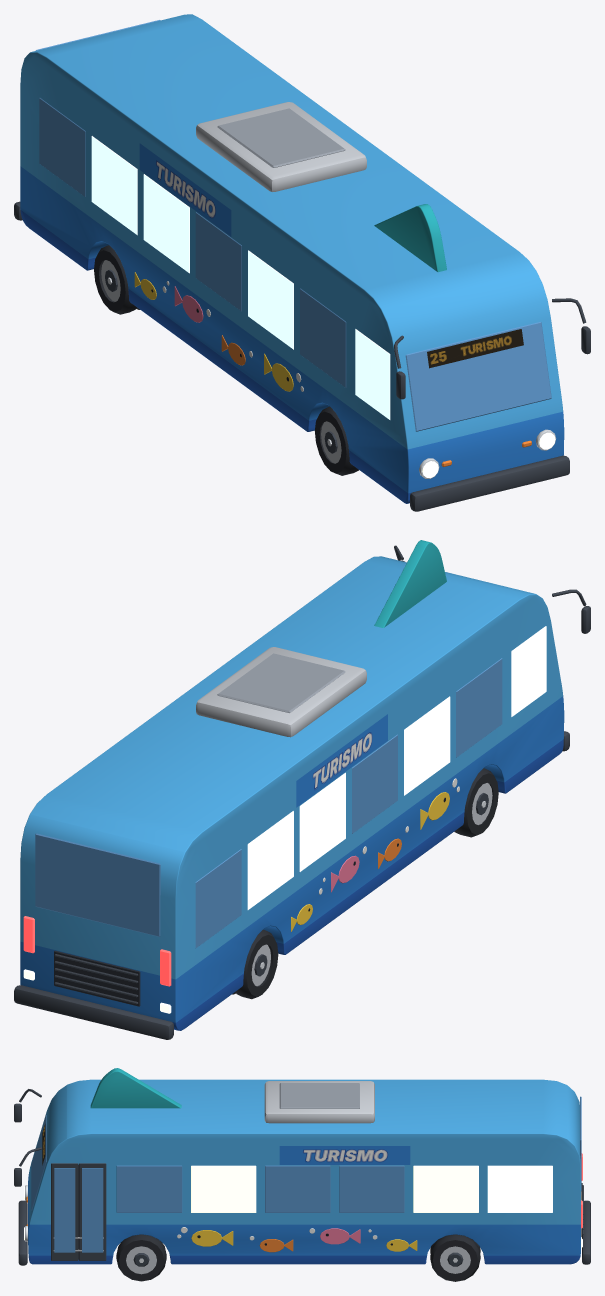
Rendered from onibus_turismo_azul.glb.
3 views of the same model, one above another, from view 1: azimuth 30°, elevation 25°; view 2: azimuth 150°, elevation 25°; view 3: azimuth 270°, elevation 25° (orthographic). The views are drawn at different scales.
Visible parts, largest first — view 1: onibus_turismo_azul, roda_2, roda_1; view 2: onibus_turismo_azul, roda_2, roda_1; view 3: onibus_turismo_azul, porta_onibus_1, porta_onibus_2, roda_4, roda_3.
Boxes of the visible parts, x1,y1,x2,y2 form: onibus_turismo_azul: (14,14,590,511); roda_2: (94,245,139,314); roda_1: (315,406,358,475); onibus_turismo_azul: (14,540,590,1039); roda_2: (232,929,278,999); roda_1: (454,768,498,837); onibus_turismo_azul: (14,1068,590,1265); porta_onibus_1: (51,1163,78,1260); porta_onibus_2: (79,1163,106,1260); roda_4: (430,1234,480,1281); roda_3: (116,1234,166,1281).
Size of the model in its own units: 3.13 by 4.11 by 11.49.
8 materials, 3 textured.
